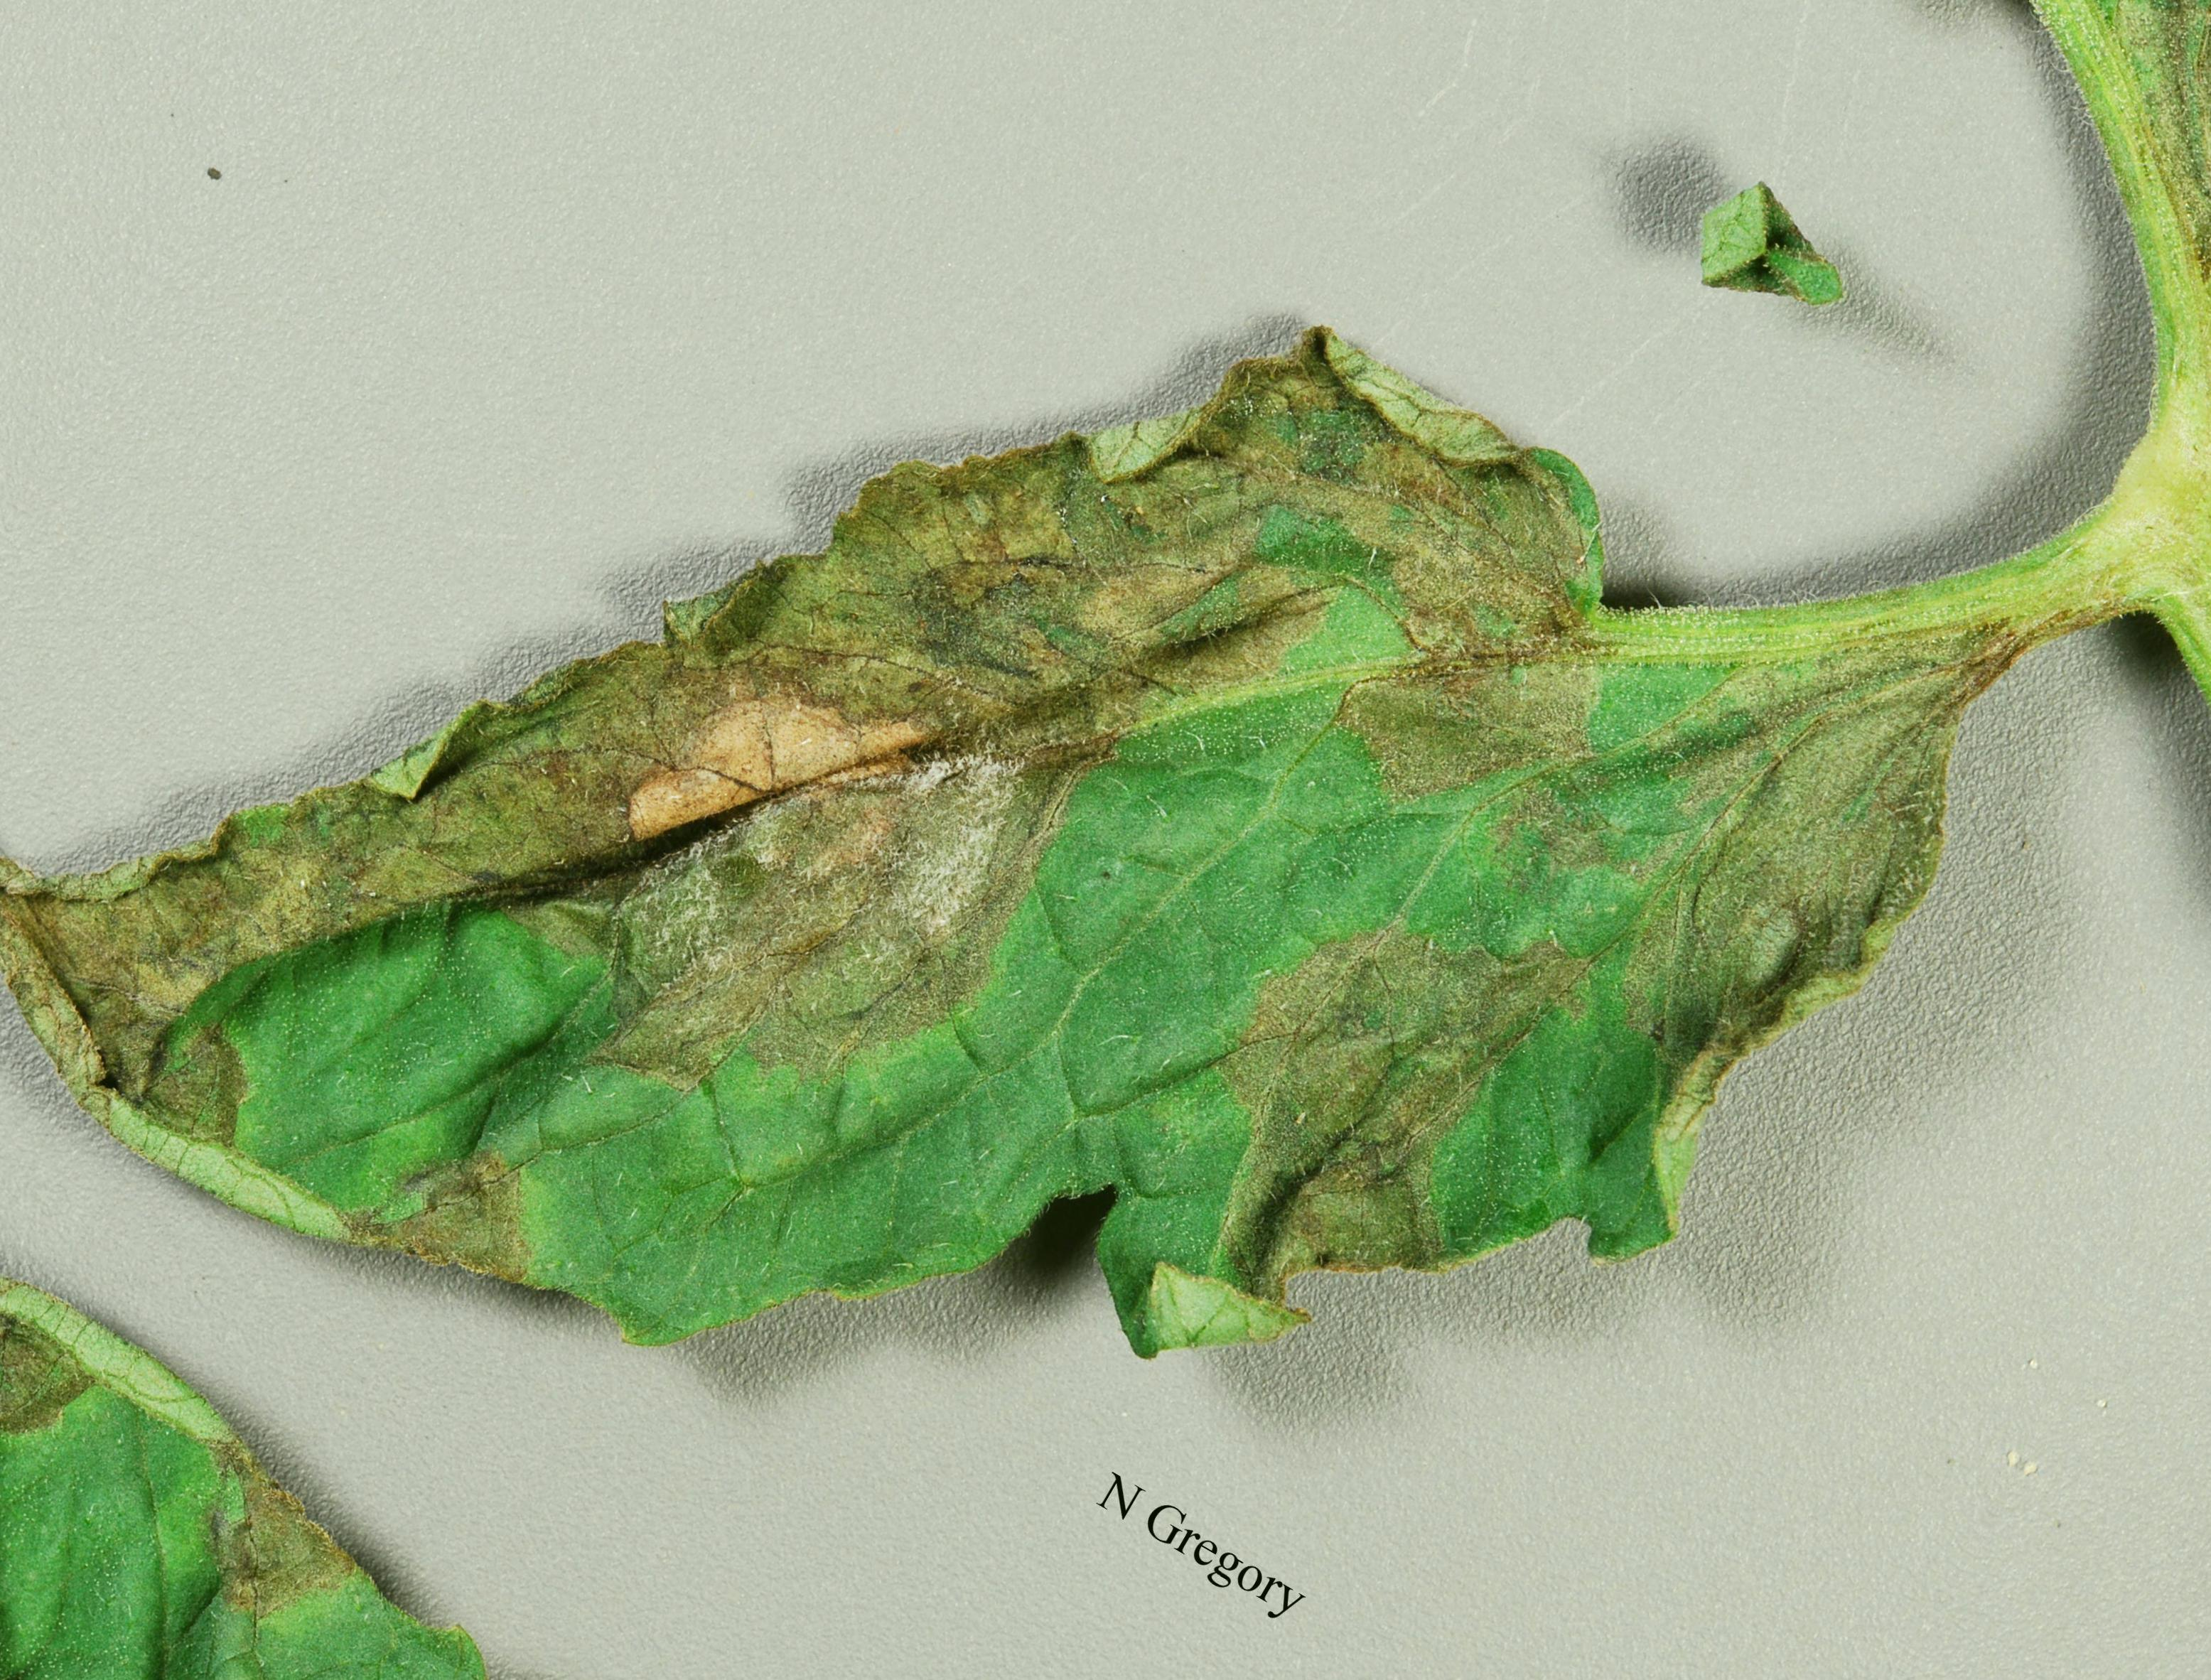Tomato leaf late blight: (0, 0, 2075, 1680)
